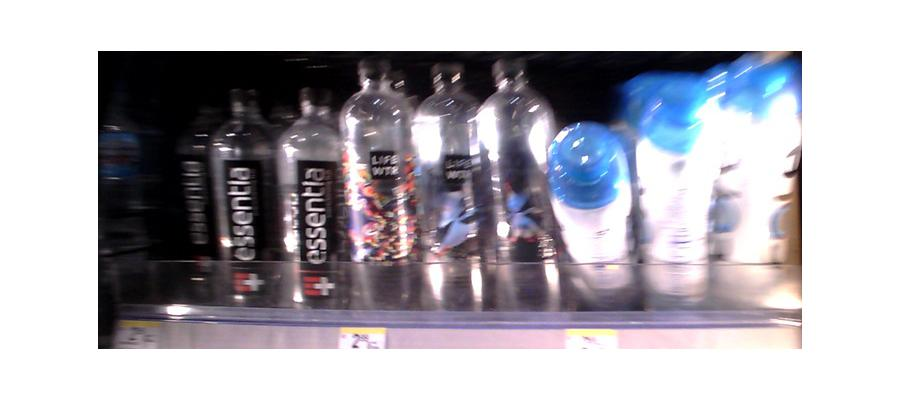bottle: (703, 54, 799, 312), (341, 60, 421, 314), (634, 69, 716, 313), (478, 58, 555, 311), (551, 114, 642, 313), (277, 86, 340, 316), (421, 67, 480, 309), (211, 87, 273, 317)
